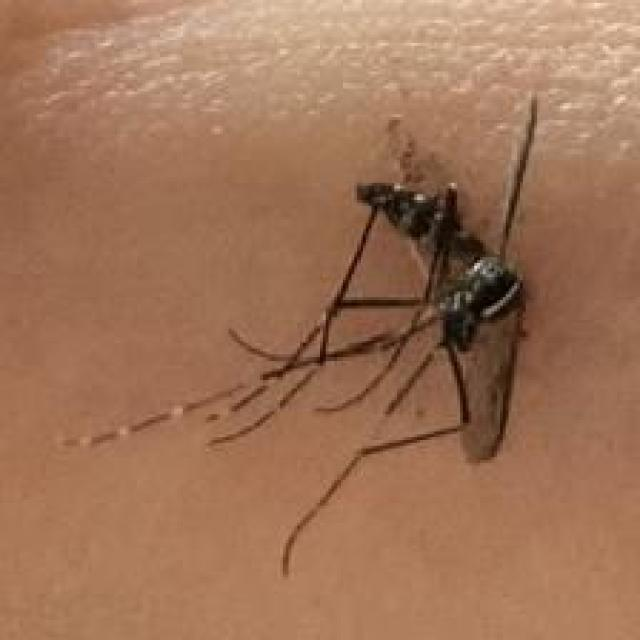Aedes albopictus: (62, 89, 544, 577)
